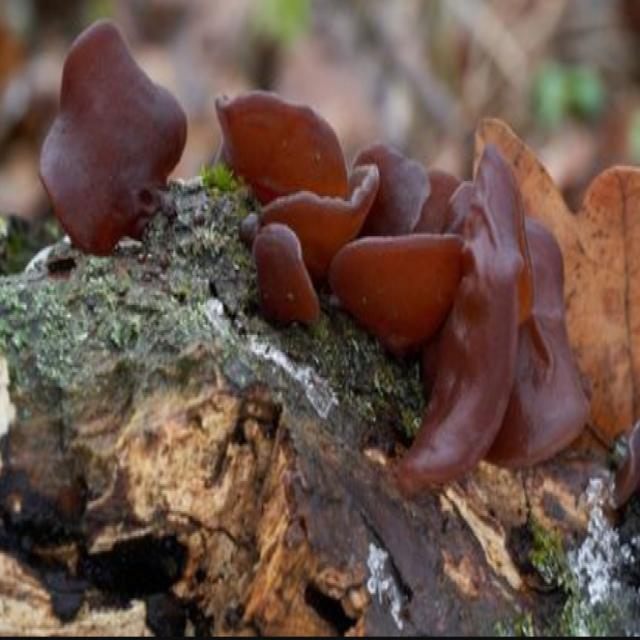Fase Muda: (383, 132, 640, 489), (213, 93, 373, 340), (43, 16, 186, 272)
